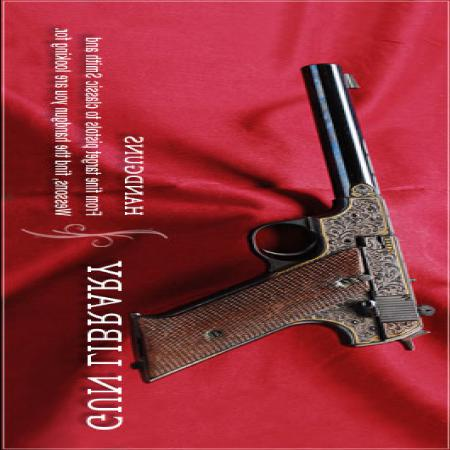Pistol: (132, 63, 436, 392)
